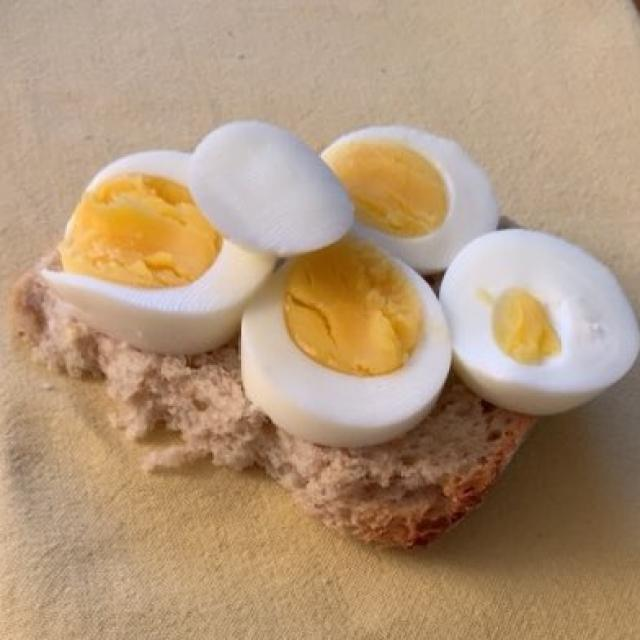bread: (29, 286, 533, 543)
egg: (20, 111, 634, 451)
